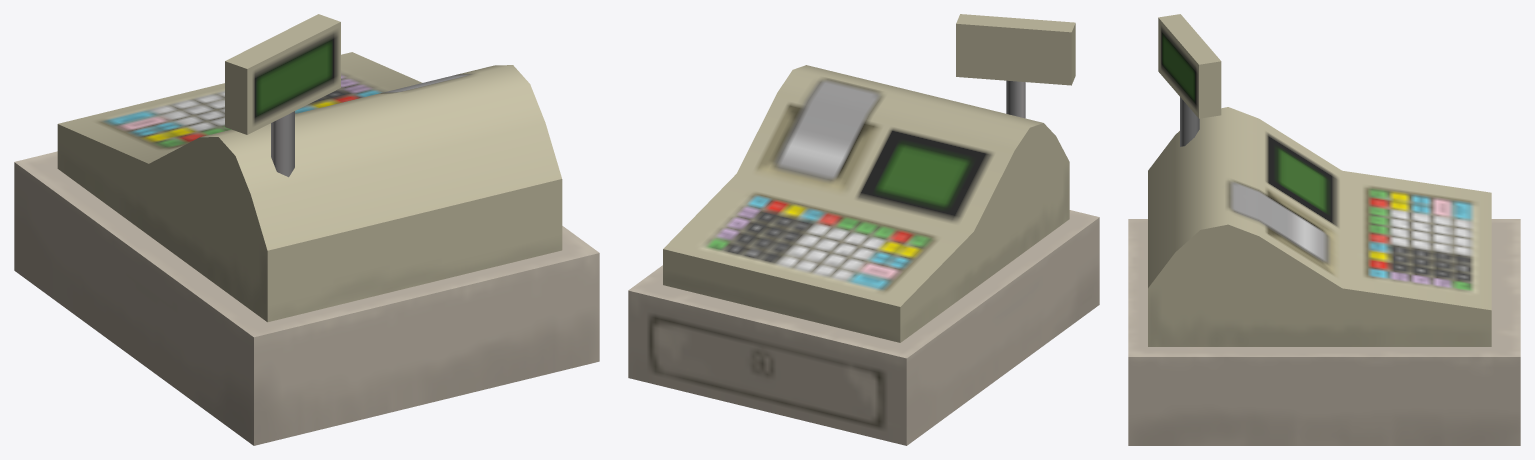
File: ELT0110005.fbx
3 renders of one model, left to right at view 1: azimuth 30°, elevation 25°; view 2: azimuth 150°, elevation 25°; view 3: azimuth 270°, elevation 25°, orthographic. The views are drawn at different scales.
Visible parts, largest first — view 1: smELT0110005; view 2: smELT0110005; view 3: smELT0110005.
Boxes of the visible parts, x1,y1,x2,y2 form: smELT0110005: (14,14,599,445); smELT0110005: (628,14,1099,445); smELT0110005: (1128,14,1520,445).
Size of the model in its own units: 50 by 49.82 by 60.
1 material, 1 textured.
